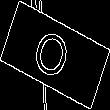O_SW: (32, 23, 78, 87)
